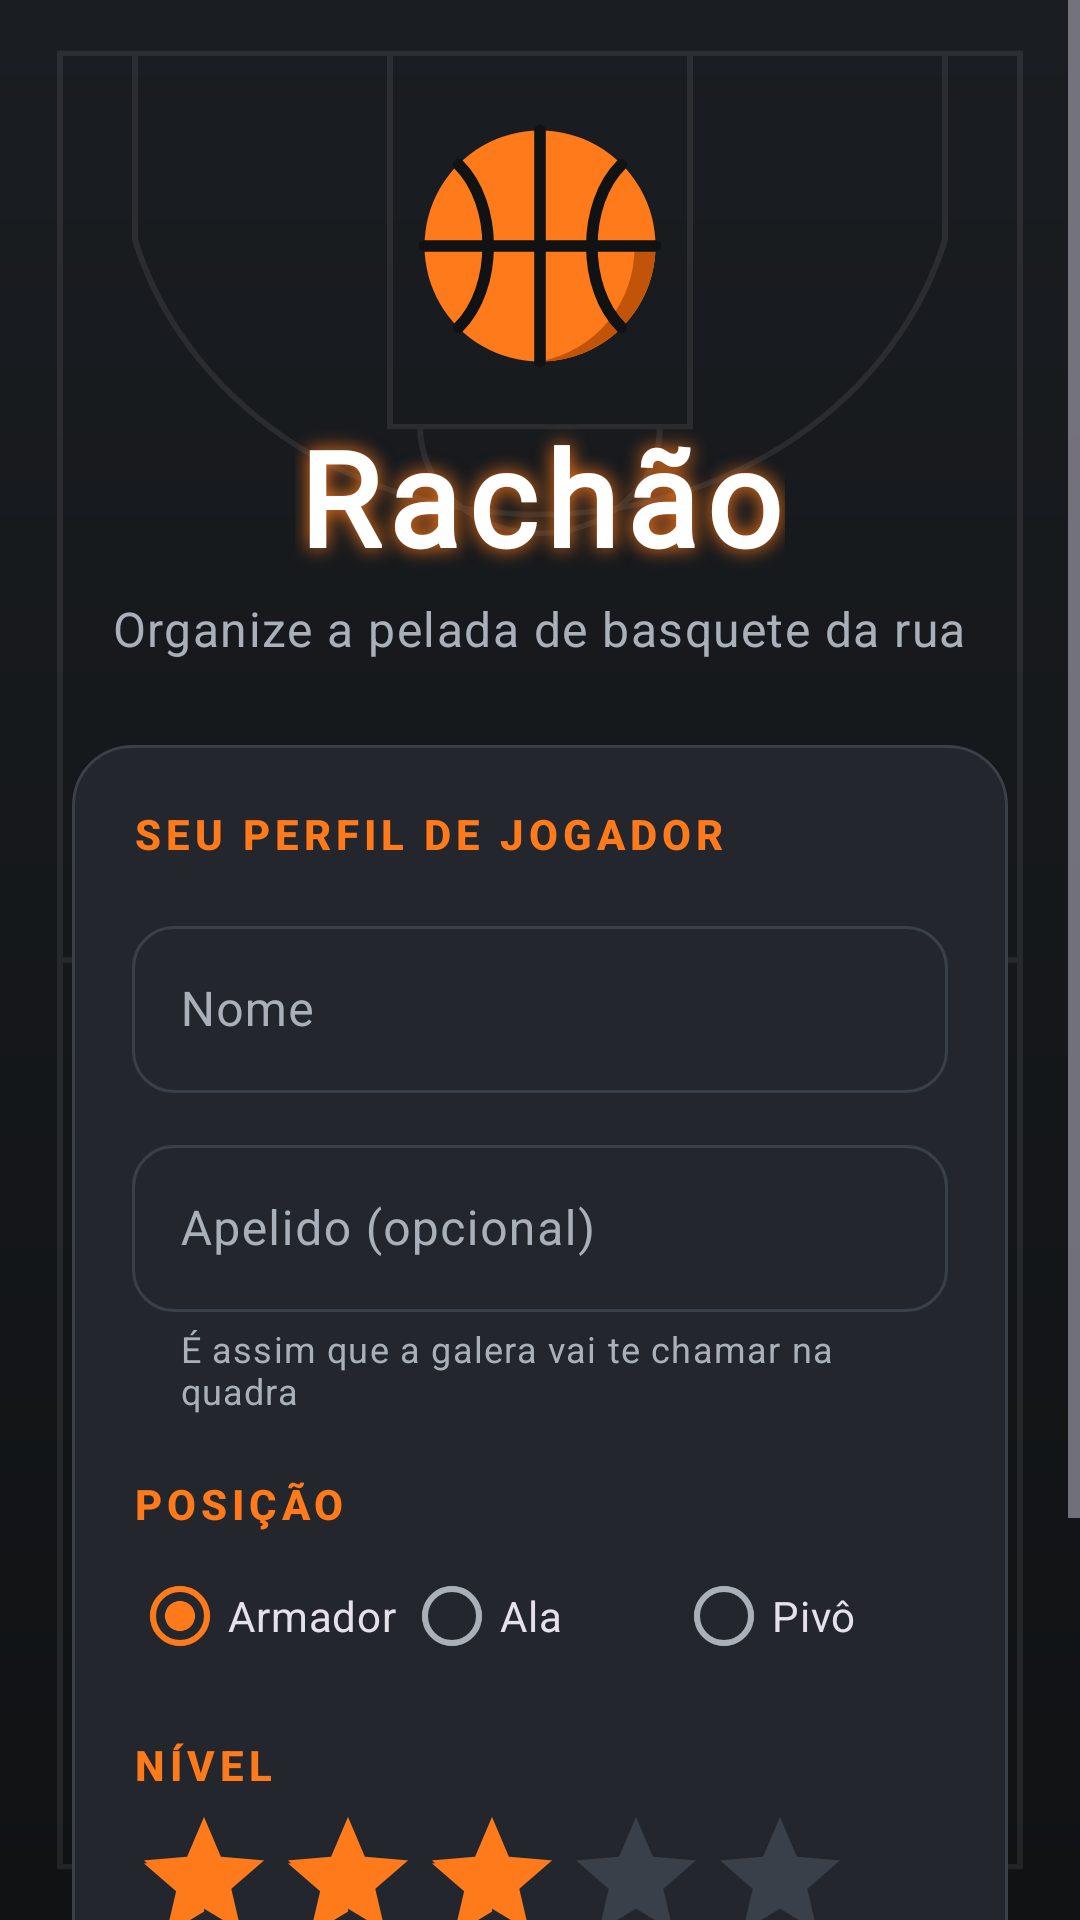

Locate icon controls on the screen. Image size 1080*1920, boxes as (x1, y1, x2, y2).
Bola de basquete: (424, 130, 656, 362)
